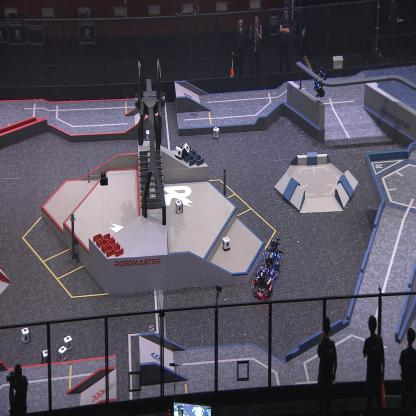car: (258, 247, 279, 282), (252, 266, 273, 301), (266, 236, 283, 266)
